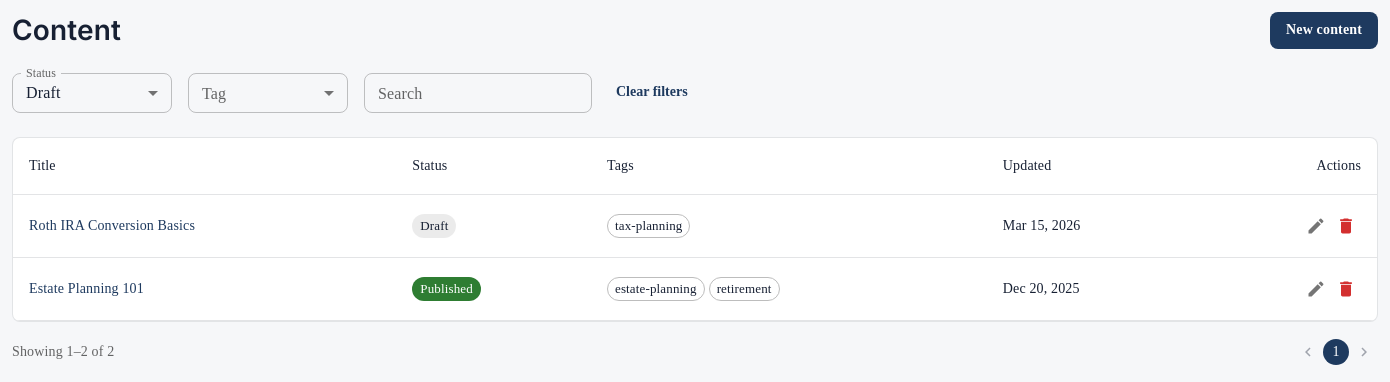
ContentListScreen › shows Clear filters only when a filter is set, and clearing rewrites the URL to /content
Click the button "Clear filters". click: (652, 93)
box: [608, 74, 696, 111]
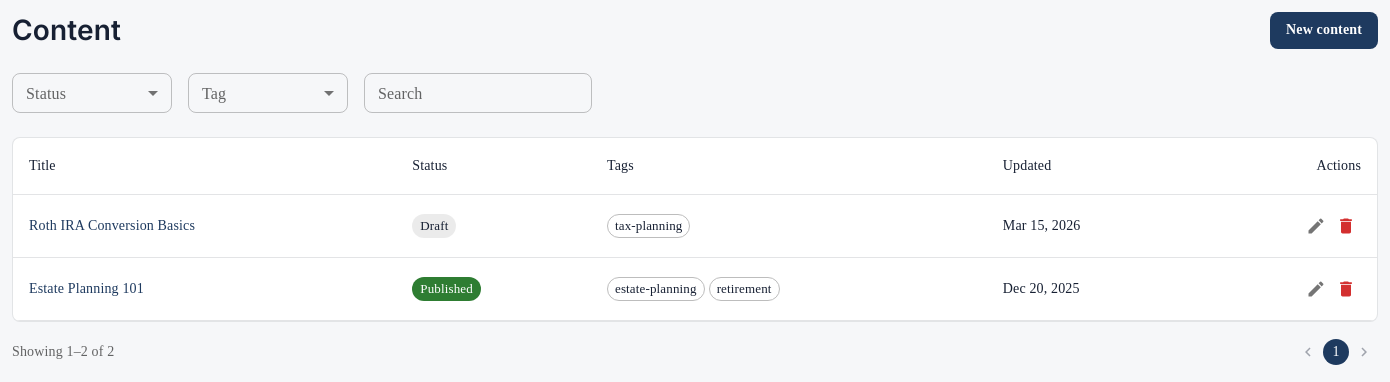
Now the button "Clear filters" is gone
